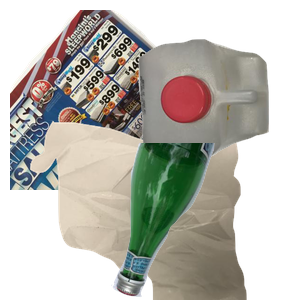glass: (109, 143, 300, 300)
paper: (10, 10, 240, 190)
plastic: (136, 37, 300, 188)
trash: (28, 120, 267, 300)
